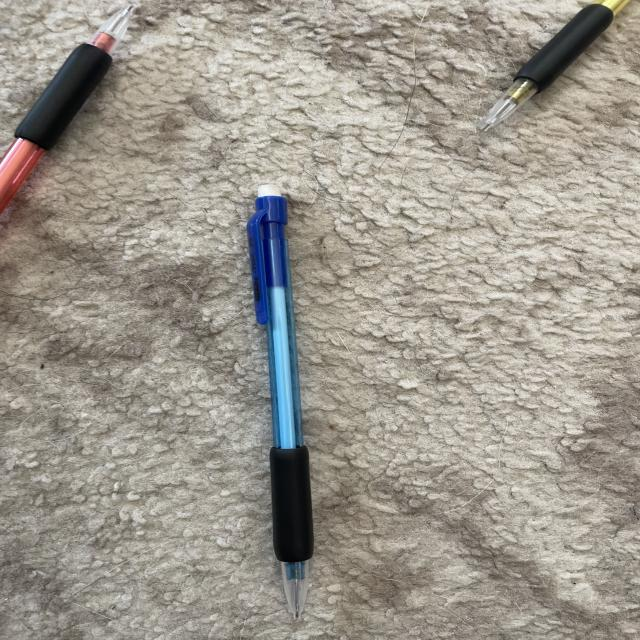mechanical-pencils: (251, 185, 317, 619), (1, 6, 134, 214), (484, 3, 630, 134)
